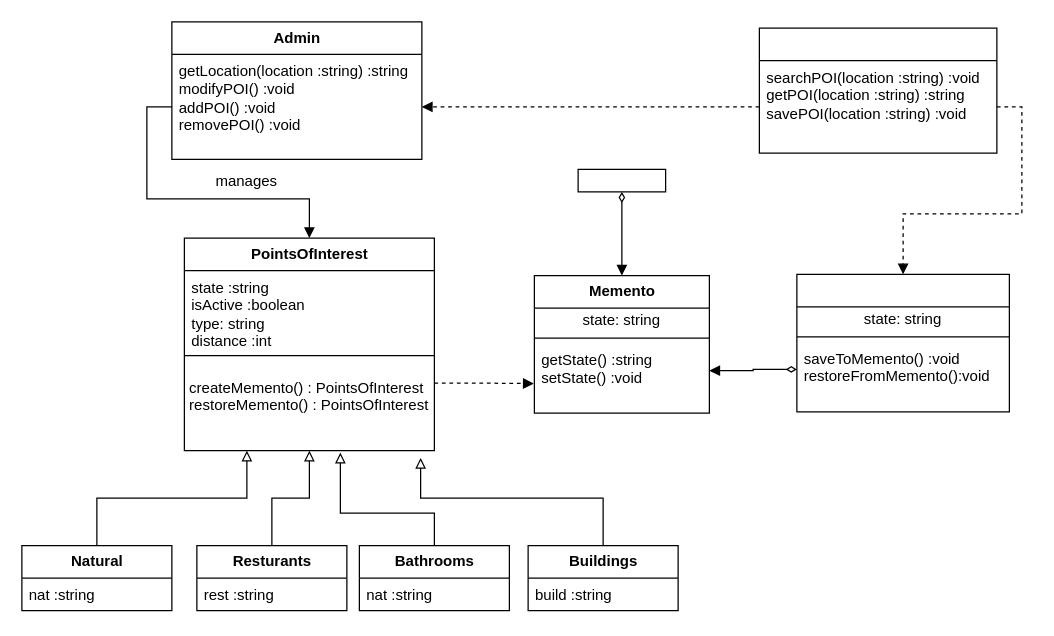
Image size: 1054x636. Some labels were removed from this diagram. Each missing label, with the box of its shape:
Caretaker: (577, 168, 666, 192)
Originator: (796, 273, 1009, 412)
User: (758, 27, 997, 153)
